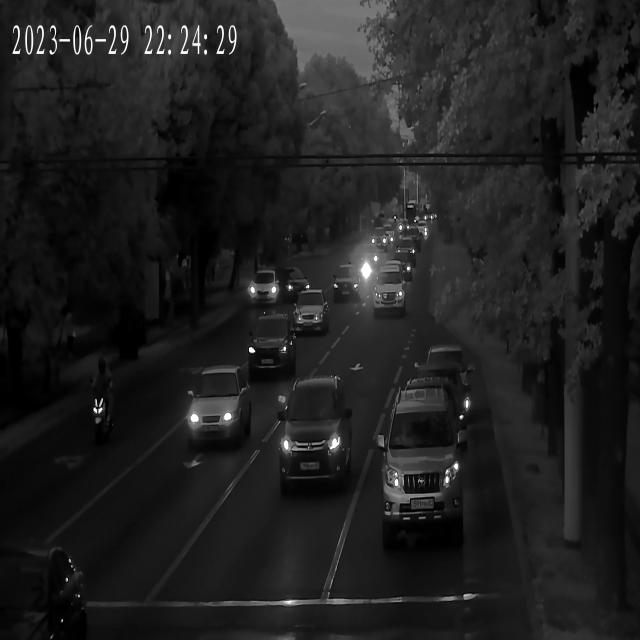Car: (377, 390, 463, 527), (0, 538, 88, 638), (279, 373, 354, 487), (183, 363, 251, 445), (397, 370, 470, 435), (409, 355, 472, 415), (246, 316, 299, 379), (414, 346, 470, 392), (290, 291, 330, 337), (372, 270, 408, 318), (248, 270, 284, 308), (330, 267, 365, 306), (275, 267, 309, 304), (377, 263, 409, 289), (349, 252, 372, 286), (391, 250, 413, 279), (400, 239, 415, 264), (406, 227, 421, 251), (371, 227, 386, 250), (382, 224, 394, 245), (392, 218, 403, 236), (418, 222, 429, 239)
Motorcycle: (82, 358, 121, 448)
